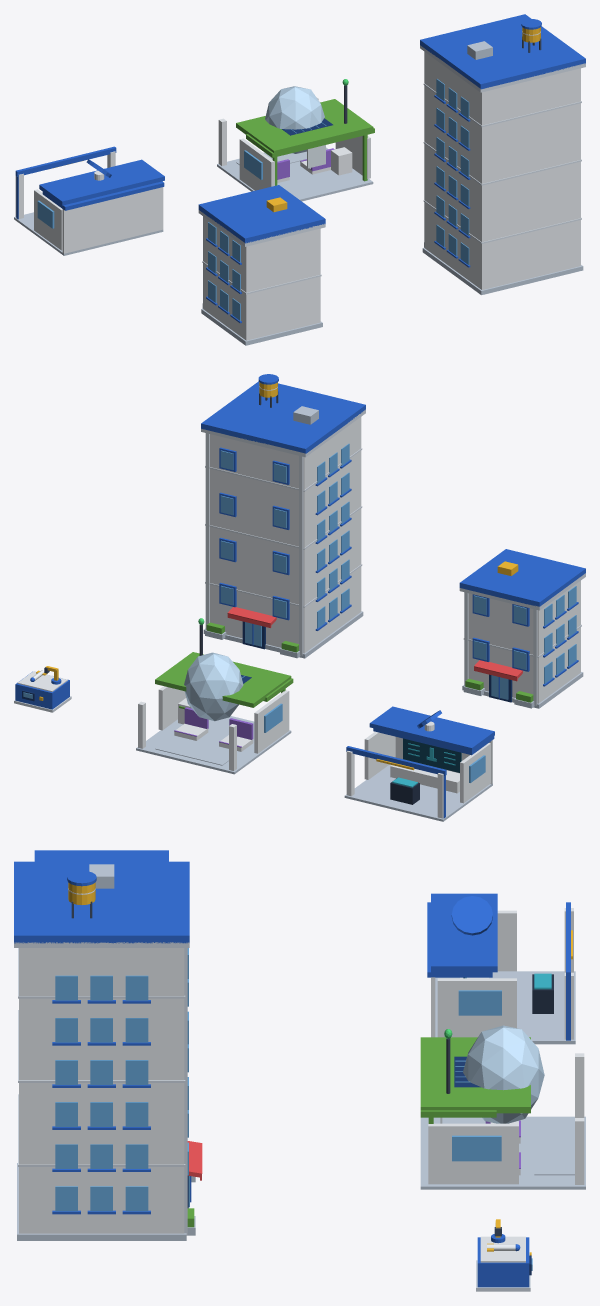
Rendered from toy-city-v04-kit.glb.
3 renders of one model, top to bottom at view 1: azimuth 30°, elevation 25°; view 2: azimuth 150°, elevation 25°; view 3: azimuth 270°, elevation 25°, orthographic. The views are drawn at different scales.
Visible parts, largest first — view 1: Office_HumanoidRootPart, StarterHouse_HumanoidRootPart, Office_Roof, TechLab_BackWall, StarterHouse_Roof, AFKLab_Canopy, TechLab_RoofFascia, AFKLab_AFKLab, AFKLab_Dome, AFKLab_SidePanel, TechLab_SidePanel, Office_FoundationTrim (+9 smaller); view 2: Office_HumanoidRootPart, Office_Roof, StarterHouse_HumanoidRootPart, StarterHouse_Roof, AFKLab_Dome, TechLab_RoofFascia, TechLab_Foundation, AFKLab_AFKLab, AFKLab_Canopy, AFKLab_SidePanel, TechLab_BlueprintScreen, TechLab_SidePanel (+10 smaller); view 3: Office_HumanoidRootPart, Office_Roof, AFKLab_Dome, AFKLab_Canopy, AFKLab_SidePanel.001, TechLab_RoofFascia, AFKLab_AFKLab, TechLab_SidePanel.001, TechLab_Foundation, AFKLab_AFKStayArea, StarterHouse_Roof, CraftingMachine_Generator (+31 smaller).
Boxes of the visible parts, <box> form: Office_HumanoidRootPart: <box>424,52,580,289</box>; StarterHouse_HumanoidRootPart: <box>203,216,320,340</box>; Office_Roof: <box>420,14,585,89</box>; TechLab_BackWall: <box>62,187,163,253</box>; StarterHouse_Roof: <box>198,185,325,243</box>; AFKLab_Canopy: <box>236,99,373,155</box>; TechLab_RoofFascia: <box>39,159,164,205</box>; AFKLab_AFKLab: <box>217,147,373,201</box>; AFKLab_Dome: <box>265,86,324,153</box>; AFKLab_SidePanel: <box>239,138,274,190</box>; TechLab_SidePanel: <box>34,189,62,250</box>; Office_FoundationTrim: <box>422,247,583,295</box>; Office_HumanoidRootPart: <box>210,417,361,653</box>; Office_Roof: <box>201,381,365,453</box>; StarterHouse_HumanoidRootPart: <box>468,581,580,703</box>; StarterHouse_Roof: <box>459,549,585,606</box>; AFKLab_Dome: <box>184,652,243,721</box>; TechLab_RoofFascia: <box>369,706,494,752</box>; TechLab_Foundation: <box>344,764,492,821</box>; AFKLab_AFKLab: <box>136,716,291,774</box>; AFKLab_Canopy: <box>155,652,291,707</box>; AFKLab_SidePanel: <box>254,690,289,753</box>; TechLab_BlueprintScreen: <box>403,738,461,772</box>; TechLab_SidePanel: <box>460,743,490,803</box>; Office_HumanoidRootPart: <box>19,948,184,1233</box>; Office_Roof: <box>14,861,189,943</box>; AFKLab_Dome: <box>463,1025,544,1123</box>; AFKLab_Canopy: <box>420,1037,530,1113</box>; AFKLab_SidePanel.001: <box>428,1123,518,1184</box>; TechLab_RoofFascia: <box>431,893,497,972</box>; AFKLab_AFKLab: <box>420,1116,585,1189</box>; TechLab_SidePanel.001: <box>437,978,516,1037</box>; TechLab_Foundation: <box>435,971,575,1044</box>; AFKLab_AFKStayArea: <box>534,1126,574,1175</box>; StarterHouse_Roof: <box>34,850,168,861</box>; CraftingMachine_Generator: <box>477,1237,529,1287</box>.
Size of the model in its own units: 13.07 by 6.62 by 9.97.
